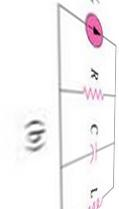resistor: (73, 78, 112, 99)
